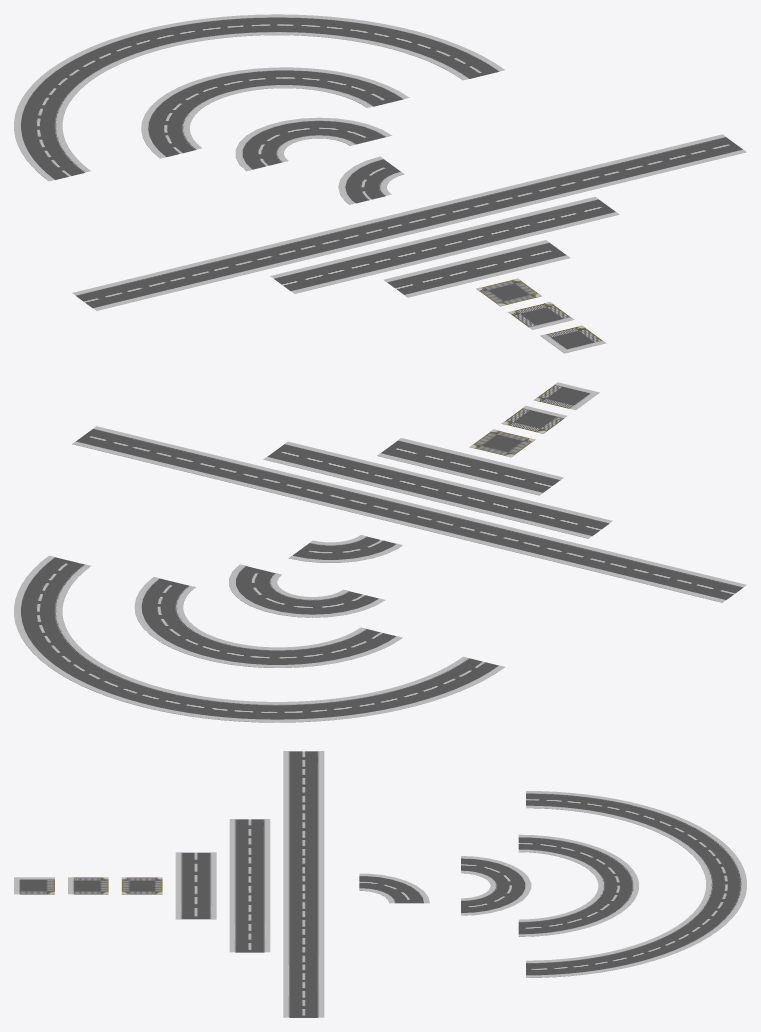
Rendered from Modular_Road.fbx.
The picture shows the model from 3 angles, top to bottom: view 1: azimuth 30°, elevation 25°; view 2: azimuth 150°, elevation 25°; view 3: azimuth 270°, elevation 25°; orthographic projection. The views are drawn at different scales.
Visible parts, largest first — view 1: Road_4X_Straight, Road_4X_HalfCircle, Road_2X_Straight, Road_2X_HalfCircle, Road_1X_Straight, Road_1X_HalfCircle, Road_1X_HalfCircle_1, Road_L_Intersection, Road_X_Intersection, Road_T_Intersection; view 2: Road_4X_Straight, Road_4X_HalfCircle, Road_2X_Straight, Road_2X_HalfCircle, Road_1X_Straight, Road_1X_HalfCircle, Road_1X_HalfCircle_1, Road_T_Intersection, Road_L_Intersection, Road_X_Intersection; view 3: Road_4X_HalfCircle, Road_4X_Straight, Road_2X_HalfCircle, Road_2X_Straight, Road_1X_Straight, Road_1X_HalfCircle, Road_1X_HalfCircle_1, Road_X_Intersection, Road_L_Intersection, Road_T_Intersection.
Part boxes in pixels (x1,y1,x2,y2): Road_4X_Straight: (72, 134, 746, 310); Road_4X_HalfCircle: (14, 14, 504, 181); Road_2X_Straight: (270, 196, 619, 293); Road_2X_HalfCircle: (141, 67, 409, 158); Road_1X_Straight: (384, 240, 570, 297); Road_1X_HalfCircle: (235, 117, 391, 171); Road_1X_HalfCircle_1: (338, 156, 404, 204); Road_L_Intersection: (540, 325, 606, 353); Road_X_Intersection: (476, 278, 541, 306); Road_T_Intersection: (508, 302, 574, 329); Road_4X_Straight: (72, 426, 746, 602); Road_4X_HalfCircle: (14, 555, 504, 722); Road_2X_Straight: (263, 441, 612, 538); Road_2X_HalfCircle: (134, 577, 402, 667); Road_1X_Straight: (377, 438, 563, 495); Road_1X_HalfCircle: (229, 564, 384, 617); Road_1X_HalfCircle_1: (288, 535, 402, 562); Road_T_Intersection: (501, 405, 567, 433); Road_L_Intersection: (534, 382, 599, 410); Road_X_Intersection: (469, 429, 535, 457); Road_4X_HalfCircle: (526, 791, 746, 977); Road_4X_Straight: (283, 751, 324, 1017); Road_2X_HalfCircle: (518, 834, 638, 936); Road_2X_Straight: (229, 819, 270, 952); Road_1X_Straight: (175, 852, 216, 919); Road_1X_HalfCircle: (461, 856, 531, 915); Road_1X_HalfCircle_1: (359, 873, 429, 903); Road_X_Intersection: (121, 877, 162, 894); Road_L_Intersection: (14, 877, 54, 894); Road_T_Intersection: (68, 877, 108, 894).
Size of the model in its own units: 190 by 0.0997 by 221.
